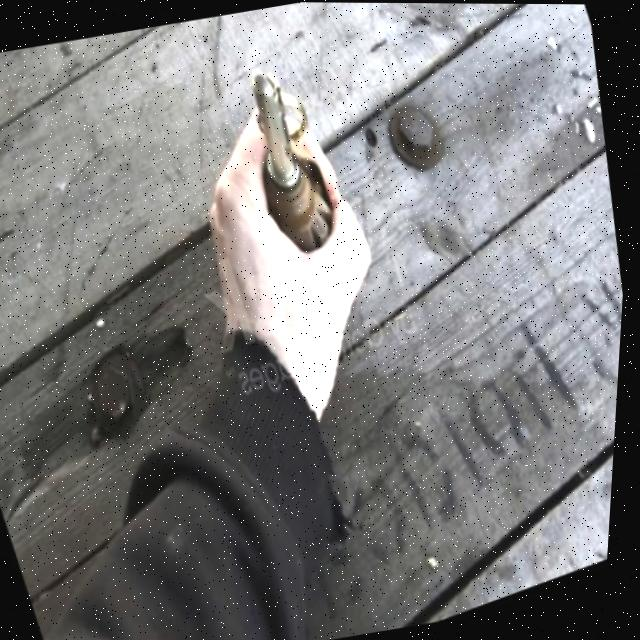grenade: (217, 53, 353, 268)
